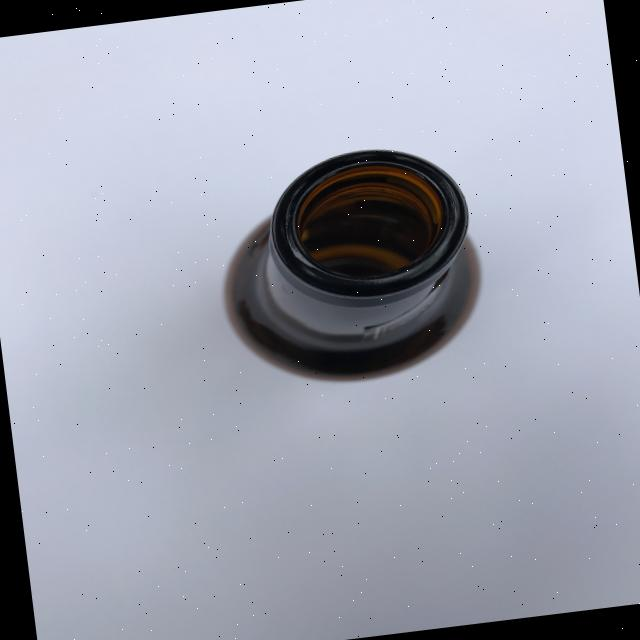glass: (206, 136, 491, 396)
